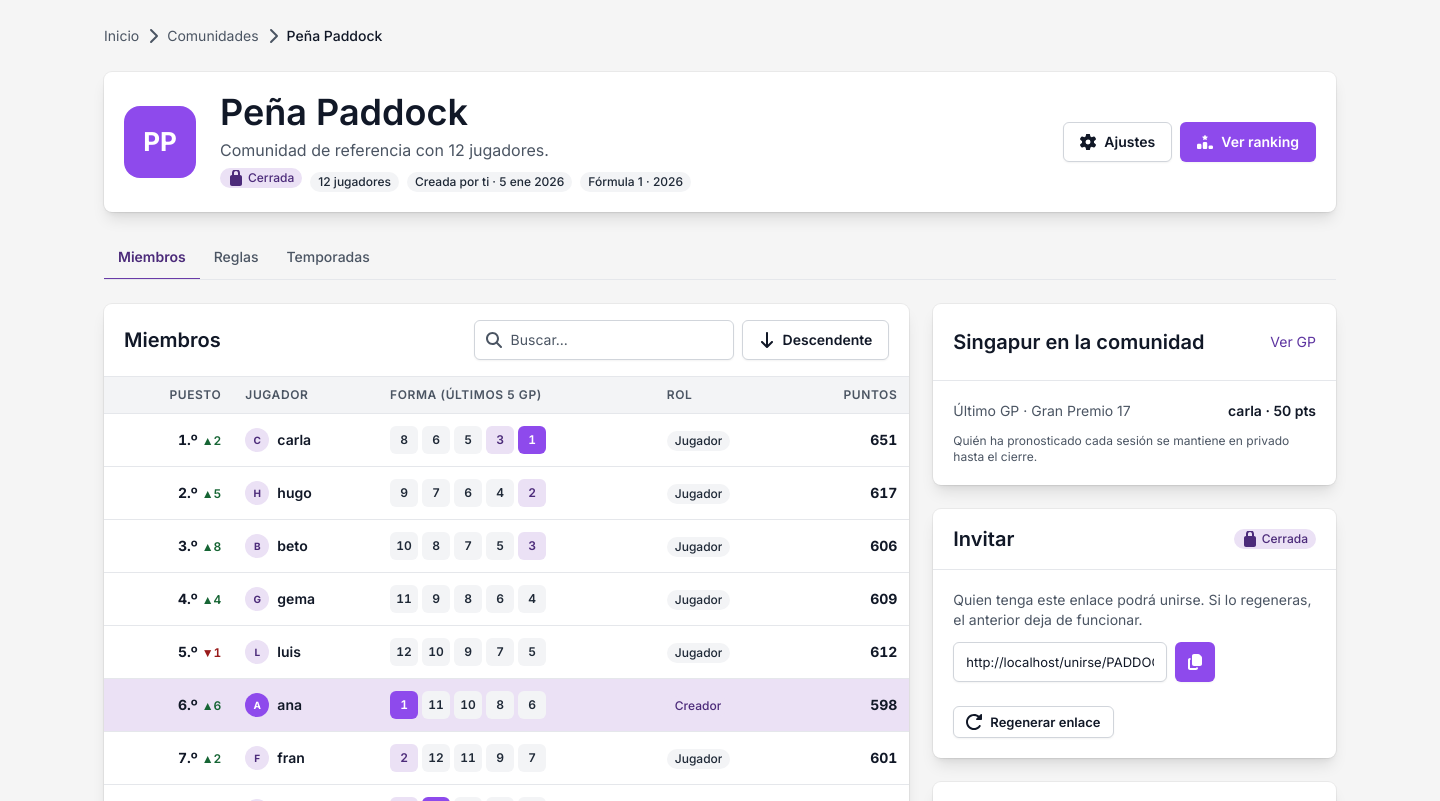
Test: Community home (H5) › members: search filters by name and keeps the real place; order toggles
Click the button with aria-label "Cambiar el orden: Descendente": (816, 340) x1=742 y1=320 x2=889 y2=360
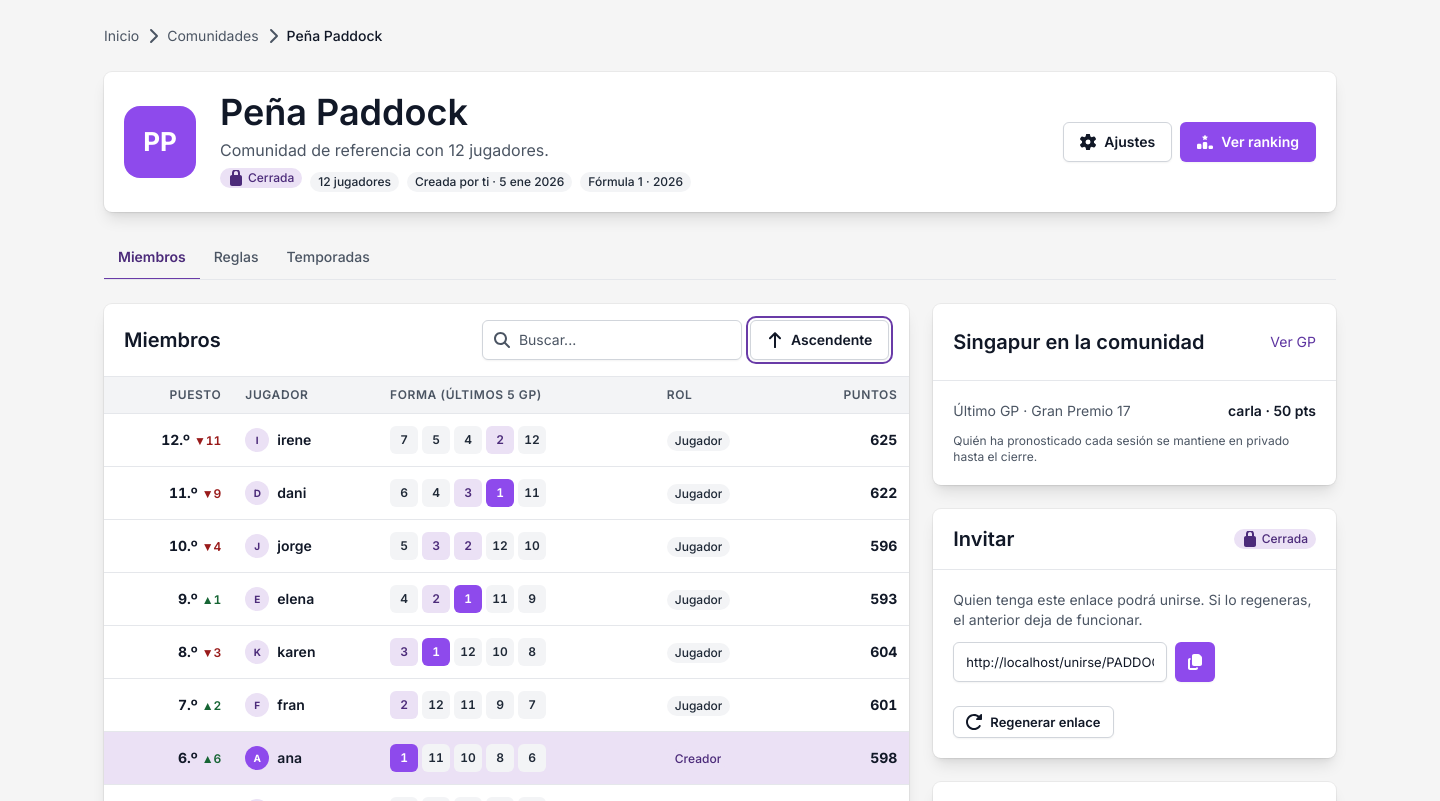
Now the button with aria-label "Cambiar el orden: Ascendente" is shown, box x1=750 y1=320 x2=889 y2=360
In the search field named "Buscar miembro": (612, 340) x1=482 y1=320 x2=742 y2=360, type "ELE"
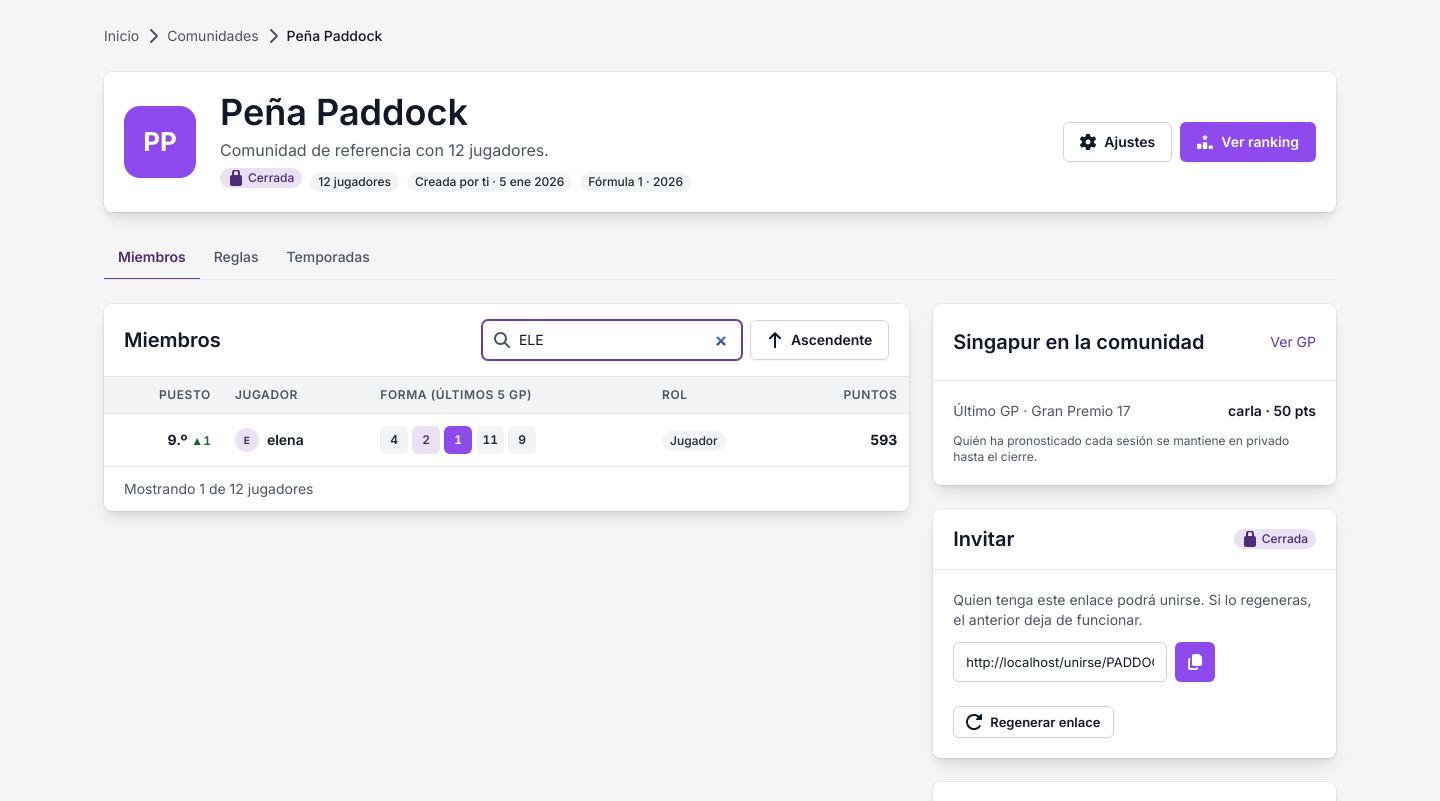
Now the text "Mostrando 1 de 12 jugadores" is shown, box x1=124 y1=479 x2=314 y2=499
Replace the text in the search field named "Buscar miembro" with "zzz": (612, 340) x1=482 y1=320 x2=742 y2=360
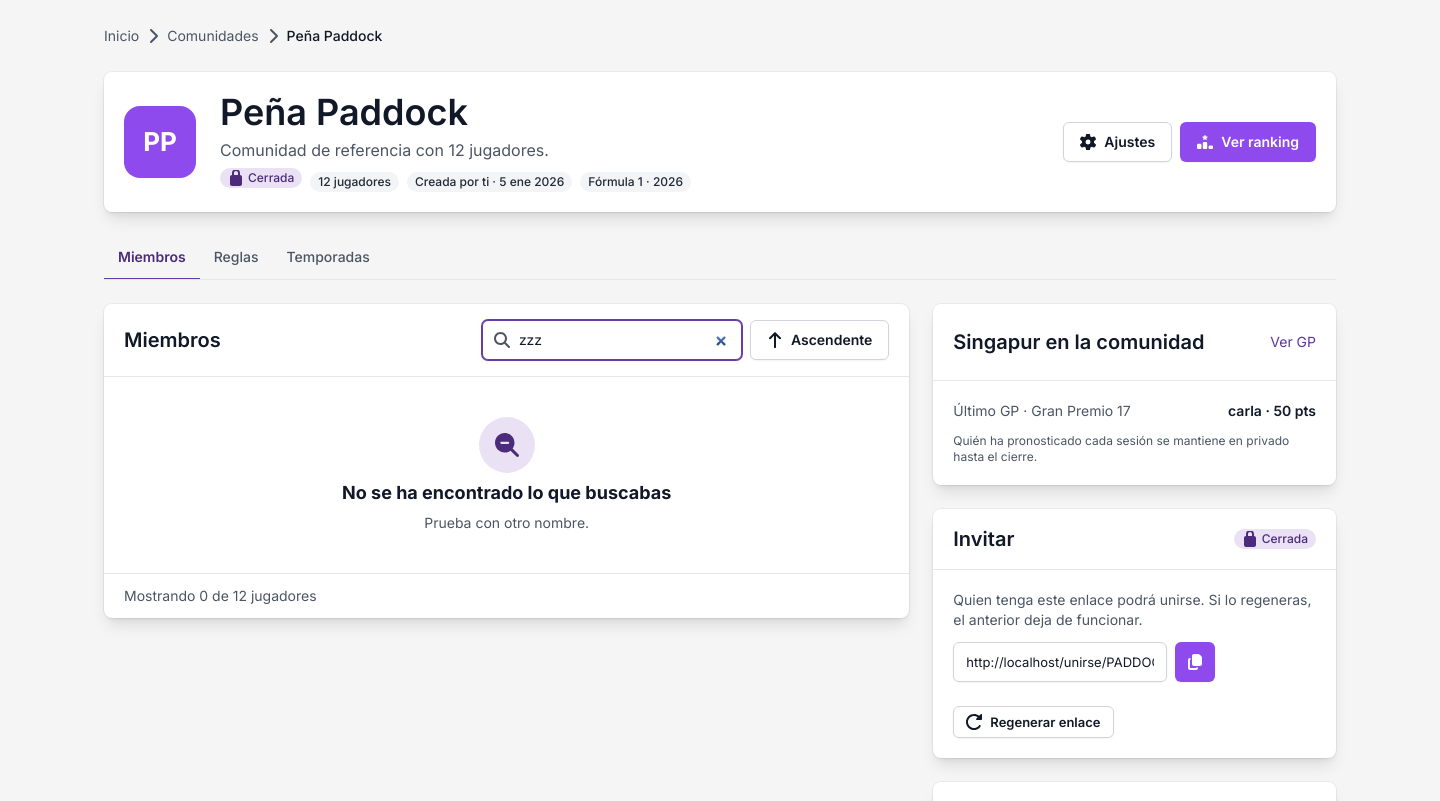
Now the heading "No se ha encontrado lo que buscabas" is shown, box x1=342 y1=481 x2=671 y2=505
Now the text "Mostrando 0 de 12 jugadores" is shown, box x1=124 y1=586 x2=317 y2=606
